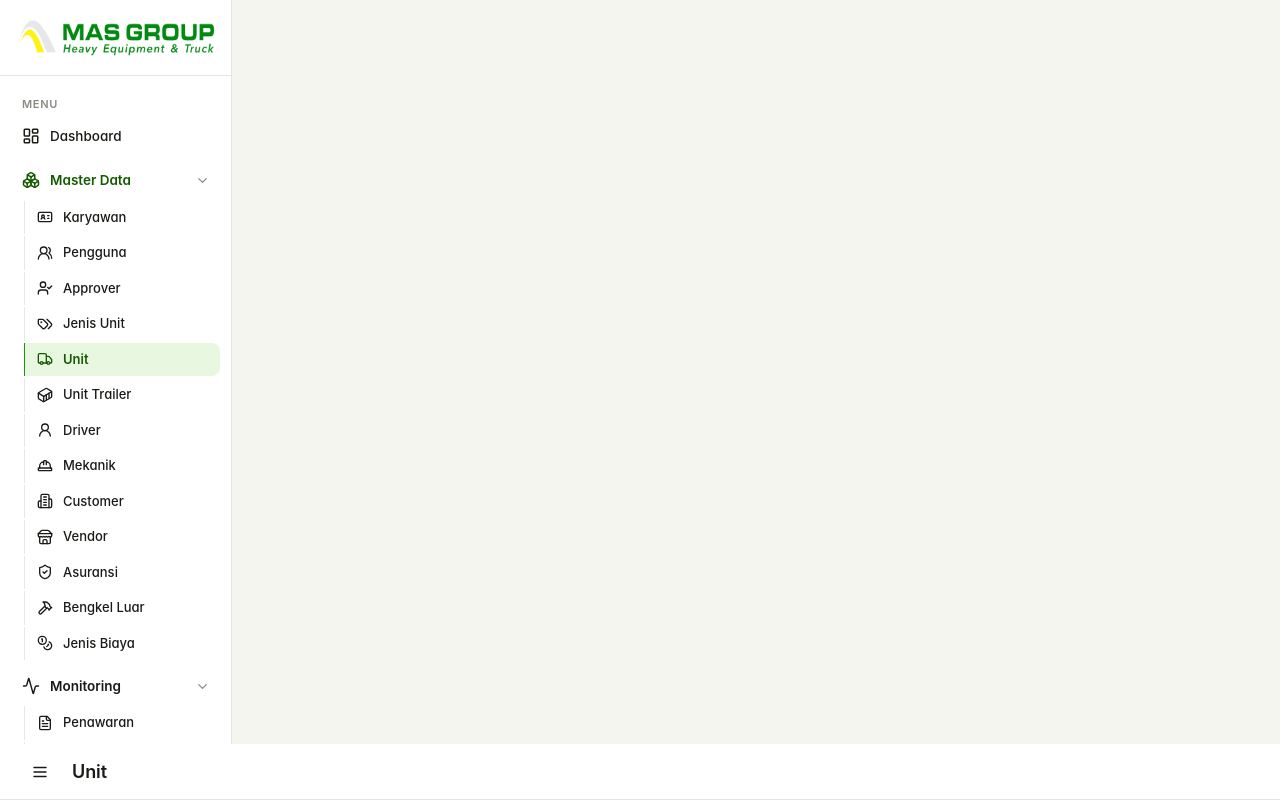
menu kiri bisa dilipat jadi ikon › dilipat: label hilang, ikon tetap ada & bisa diklik, halaman aktif tetap disorot
The image size is (1280, 800).
(page scrolled)
Expected: the text "Unit" below "Jenis Unit" is shown, x1=63 y1=350 x2=88 y2=366
Step 1. Click the button named "Lipat menu" → point(40, 772), box x1=24 y1=756 x2=56 y2=788
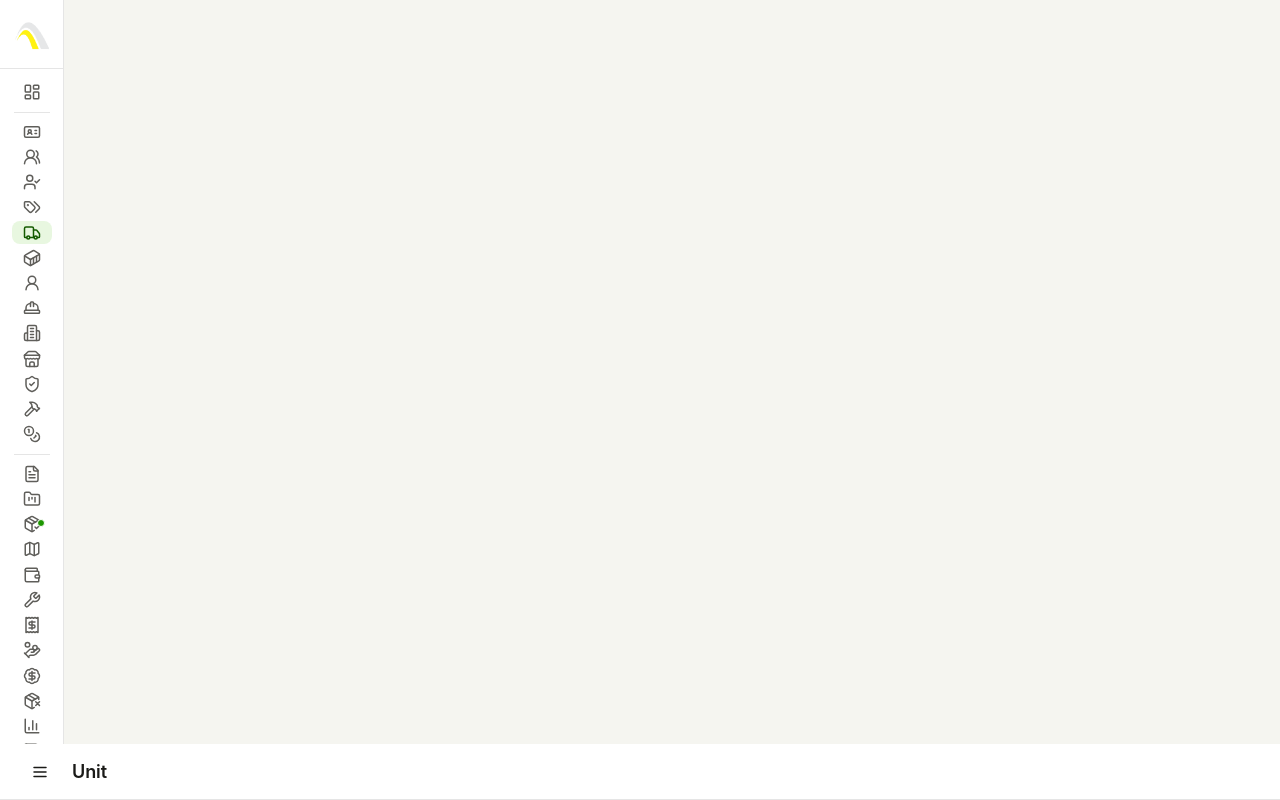
Expected: the link named "Dashboard" is shown, x1=23 y1=83 x2=41 y2=101
Expected: the link named "Karyawan" is shown, x1=23 y1=123 x2=41 y2=141
Step 2. Click the button named "Buka menu" → point(40, 772), box x1=24 y1=756 x2=56 y2=788
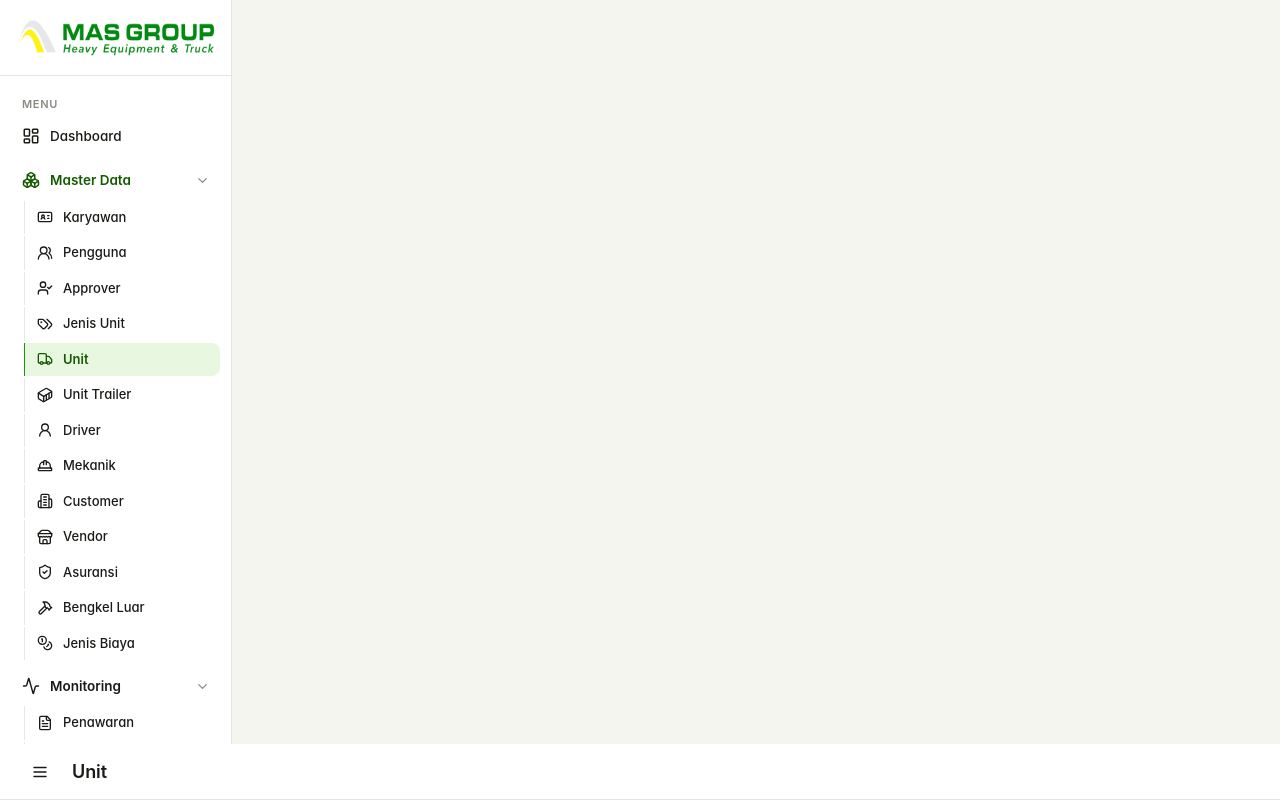
Expected: the text "Unit" below "Jenis Unit" is shown, x1=63 y1=350 x2=88 y2=366
